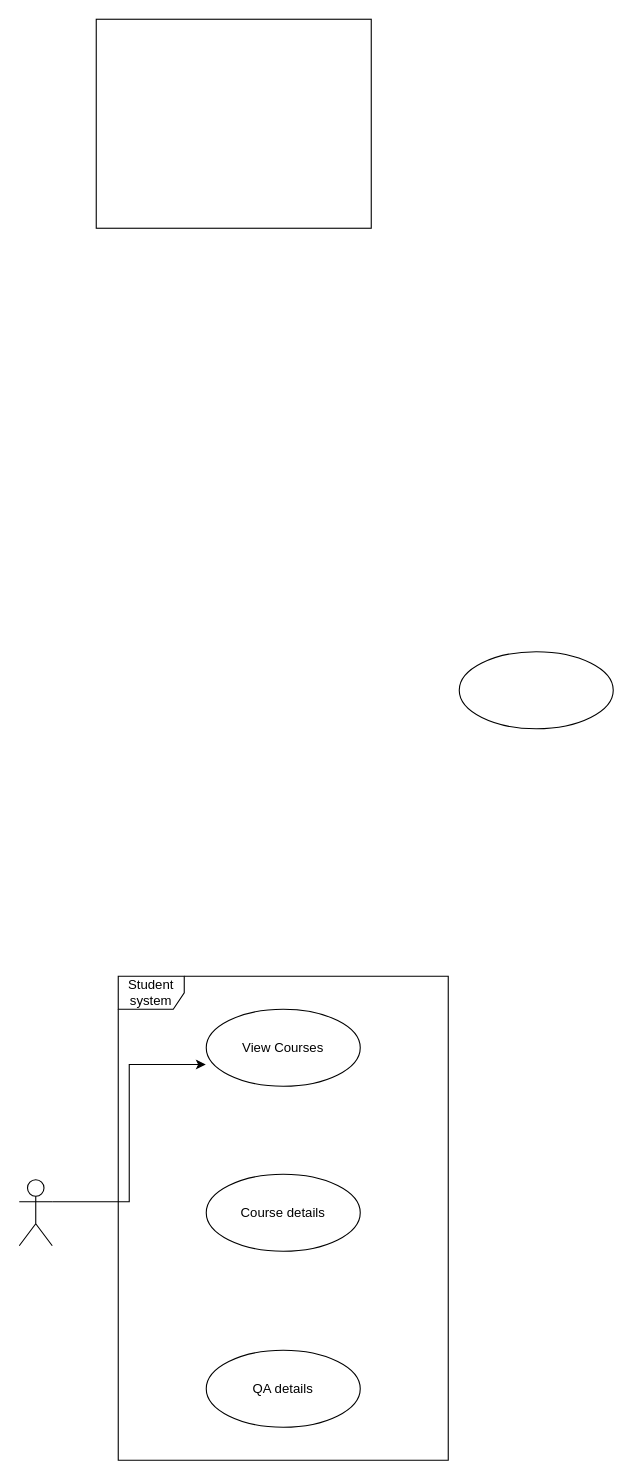
Some shapes in this 633 by 1480 pixel diagram are drawn without their labels. Here are the shapes that lost their labels. From the top down, the centre of each, then its label:
At (535,690): "Log in".
At (35,1212): "Actor".
